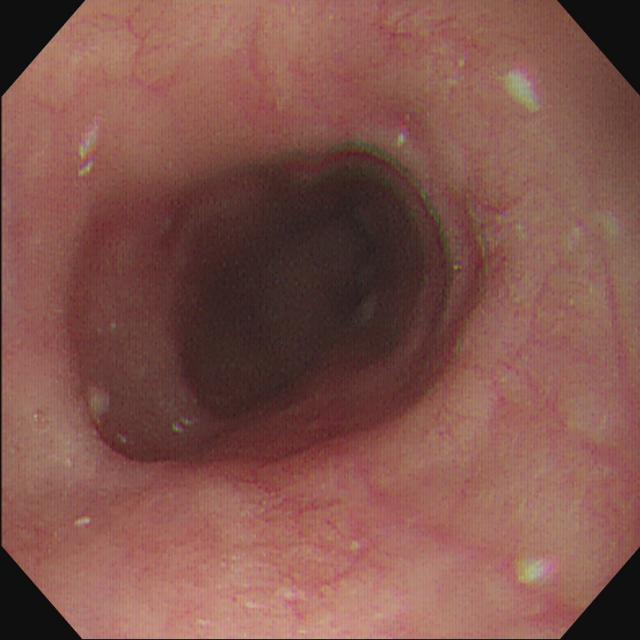E: (309, 178, 398, 319)
J: (86, 387, 112, 428)
U: (507, 67, 544, 116), (516, 560, 559, 587)
